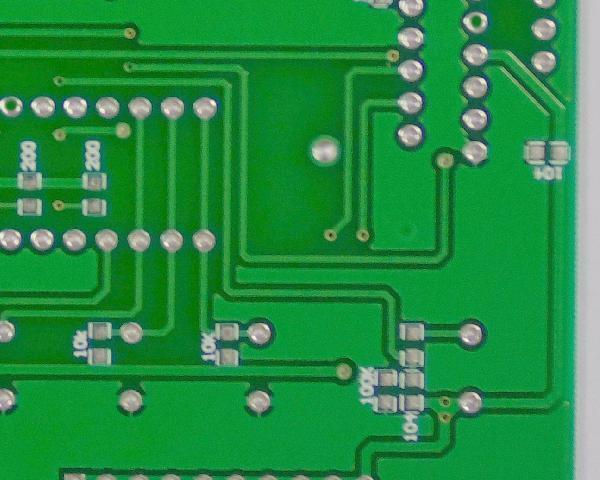missing hole: (459, 7, 494, 36), (1, 92, 26, 119)
